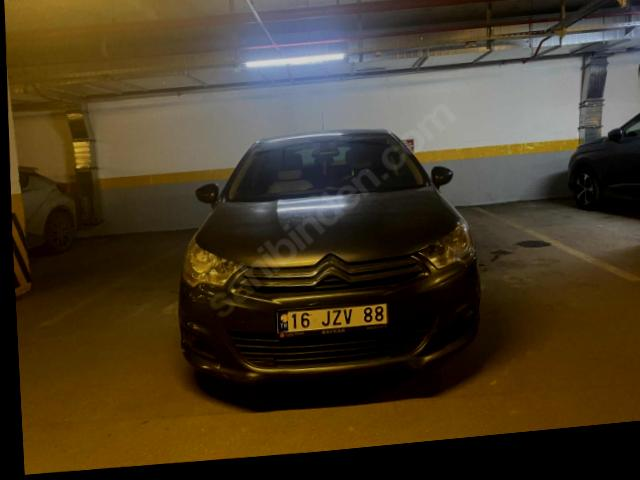plaka: (277, 303, 387, 336)
